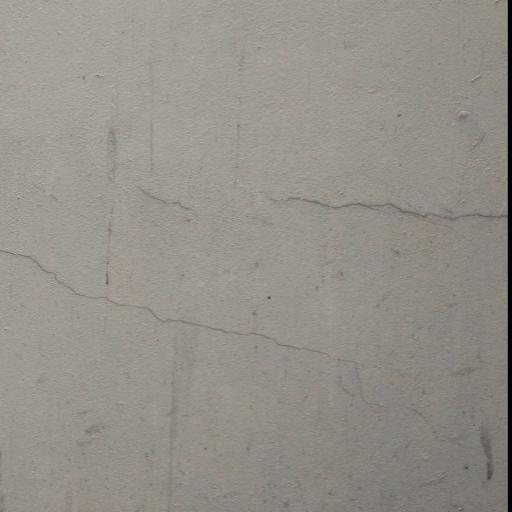minor_crack: (0, 225, 512, 476), (272, 149, 512, 276)
